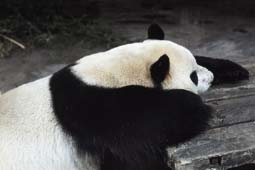panda: (1, 23, 252, 170)
